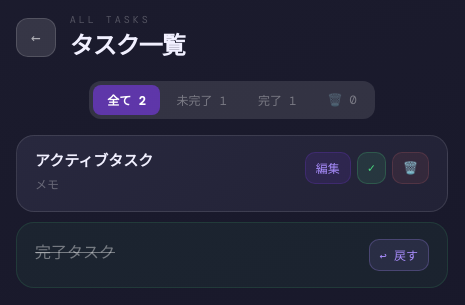
it: ListView — 空状態 › ゴミ箱が空のとき '🎉' メッセージを表示
The image size is (465, 305).
Click the button "🗑️ 0" at (342, 100), box top-left (313, 85), bottom-right (371, 115)
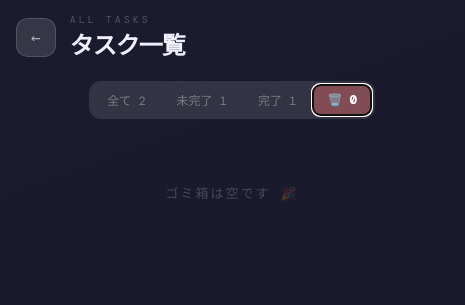
Result: the text "ゴミ箱は空です 🎉" is shown at top-left (166, 185), bottom-right (298, 202)
